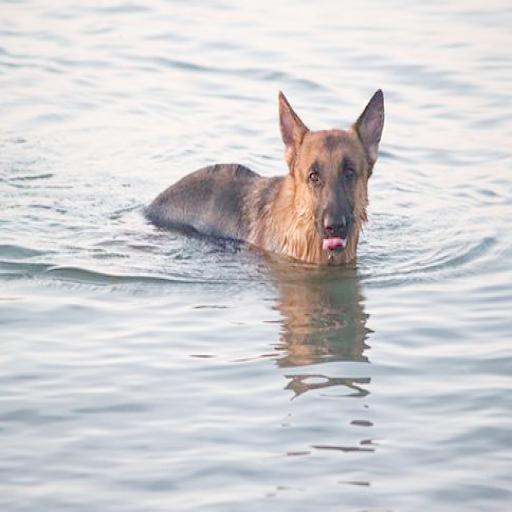dog_face: (272, 89, 389, 260)
